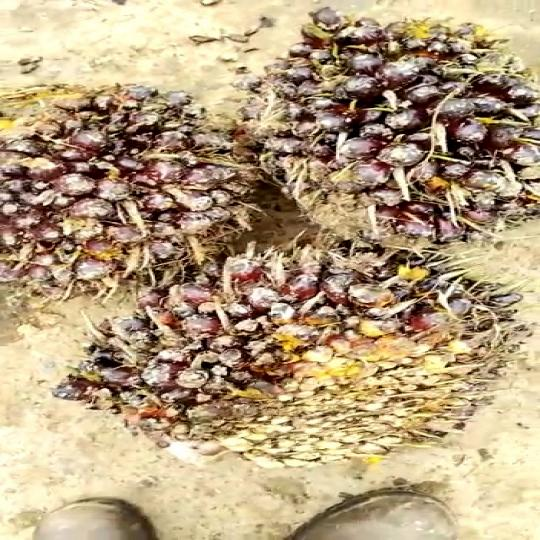kurang masak: (84, 237, 522, 483), (200, 1, 540, 243), (0, 73, 275, 273)
